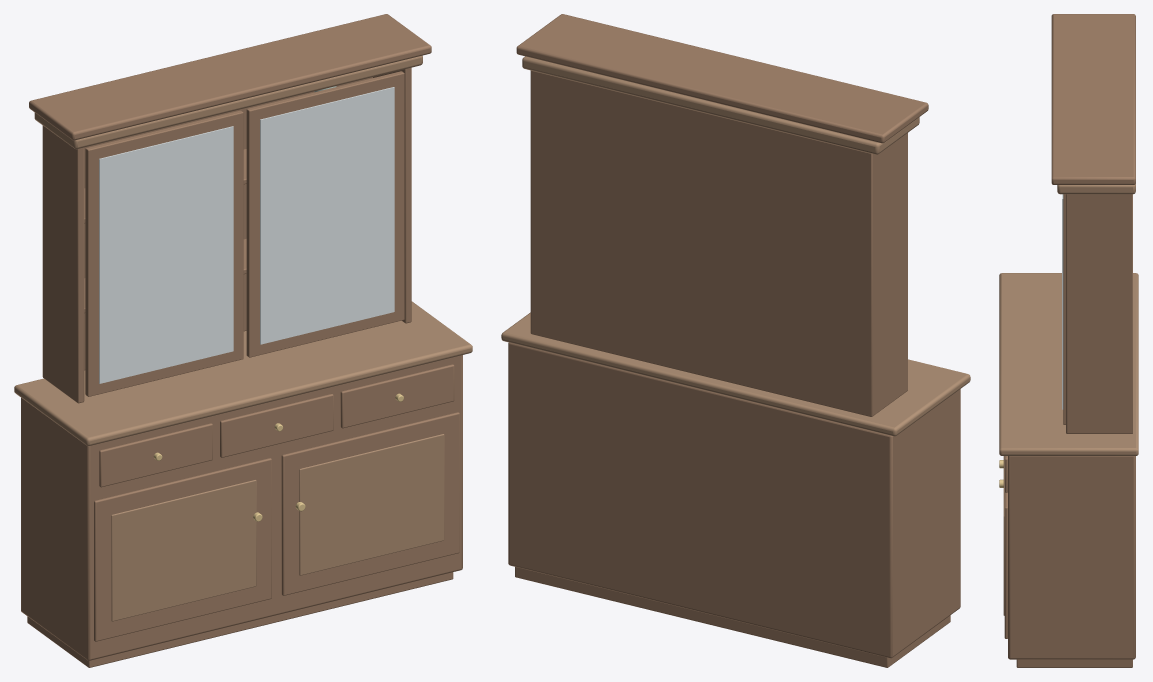
File: dn_sideboard.fbx
The picture shows the model from 3 angles, left to right: view 1: azimuth 30°, elevation 25°; view 2: azimuth 150°, elevation 25°; view 3: azimuth 270°, elevation 25°; orthographic projection. The views are drawn at different scales.
Parts seen in each view (by area): view 1: Base.001, Glass, Glass.001, Top.004, HutchCornice, DoorPanel, DoorPanel.001, HutchSide, Door.003, Door.002, GlassDoorFrame.001, GlassDoorFrame (+7 smaller); view 2: Base.001, HutchBack, HutchCornice, HutchSide, Top.004, HutchTop, Plinth.001, HutchSide.001; view 3: Base.001, HutchSide.001, HutchCornice, Top.004, Plinth.001, HutchTop, GlassDoorFrame.001, Door.003, Glass.001, DoorPanel.001.
Part boxes in pixels (x1=…): Base.001: x1=21, y1=355, x2=462, y2=660; Glass: x1=99, y1=126, x2=233, y2=383; Glass.001: x1=260, y1=87, x2=394, y2=344; Top.004: x1=14, y1=301, x2=472, y2=446; HutchCornice: x1=29, y1=14, x2=431, y2=140; DoorPanel: x1=111, y1=479, x2=256, y2=621; DoorPanel.001: x1=299, y1=434, x2=444, y2=575; HutchSide: x1=42, y1=125, x2=84, y2=403; Door.003: x1=281, y1=412, x2=459, y2=595; Door.002: x1=94, y1=458, x2=271, y2=641; GlassDoorFrame.001: x1=246, y1=71, x2=404, y2=357; GlassDoorFrame: x1=85, y1=110, x2=243, y2=396; Base.001: x1=508, y1=342, x2=960, y2=658; HutchBack: x1=531, y1=71, x2=870, y2=416; HutchCornice: x1=516, y1=14, x2=928, y2=143; HutchSide: x1=866, y1=133, x2=907, y2=416; Top.004: x1=501, y1=312, x2=970, y2=436; HutchTop: x1=522, y1=56, x2=919, y2=154; Plinth.001: x1=515, y1=567, x2=950, y2=667; HutchSide.001: x1=530, y1=70, x2=535, y2=334; Base.001: x1=1008, y1=456, x2=1135, y2=659; HutchSide.001: x1=1066, y1=194, x2=1132, y2=433; HutchCornice: x1=1051, y1=14, x2=1135, y2=184; Top.004: x1=999, y1=273, x2=1138, y2=455; Plinth.001: x1=1016, y1=659, x2=1132, y2=667; HutchTop: x1=1057, y1=183, x2=1135, y2=194; GlassDoorFrame.001: x1=1063, y1=194, x2=1065, y2=424; Door.003: x1=1004, y1=492, x2=1007, y2=638; Glass.001: x1=1062, y1=194, x2=1063, y2=409; DoorPanel.001: x1=1003, y1=456, x2=1004, y2=615.
Bounding box in the file's own units: 1.44 × 1.86 × 0.48.
